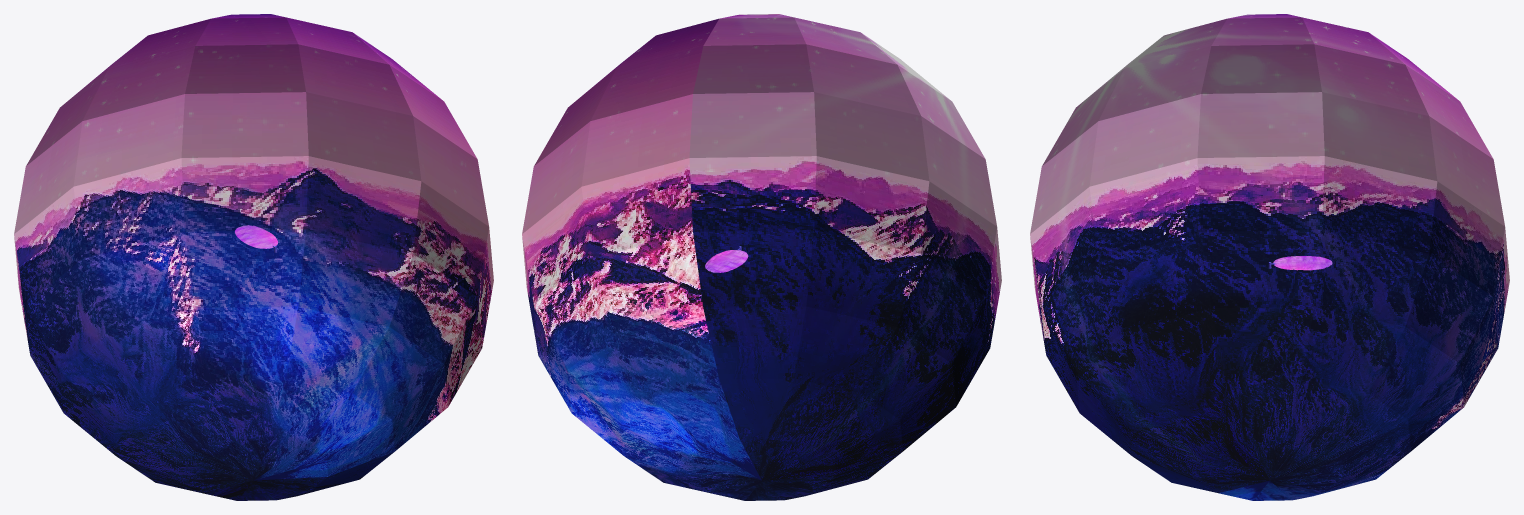
The picture shows the model from 3 angles, left to right: view 1: azimuth 30°, elevation 25°; view 2: azimuth 150°, elevation 25°; view 3: azimuth 270°, elevation 25°; orthographic projection.
Parts seen in each view (by area): view 1: Sphere, Plane; view 2: Sphere, Plane; view 3: Sphere, Plane.
Boxes of the visible parts, box(x1,y1,x2,y2) form: Sphere: box(14, 14, 493, 500); Plane: box(235, 225, 278, 248); Sphere: box(522, 14, 1001, 500); Plane: box(705, 250, 748, 272); Sphere: box(1030, 14, 1509, 500); Plane: box(1273, 256, 1332, 270).
Bounding box in the file's own units: 610 × 626 × 610.
4 materials, 4 textured.
